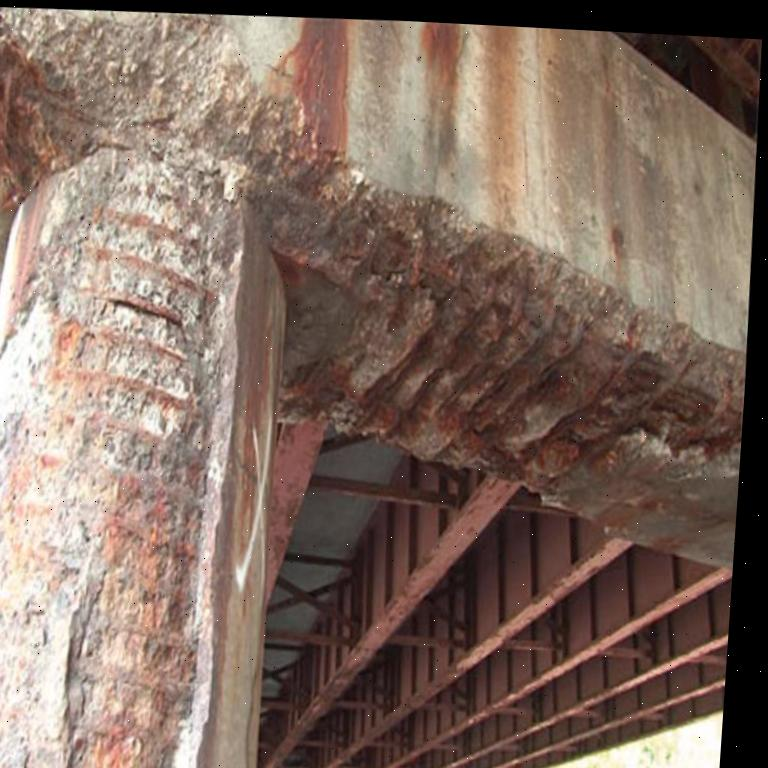spalling: (0, 7, 746, 768)
